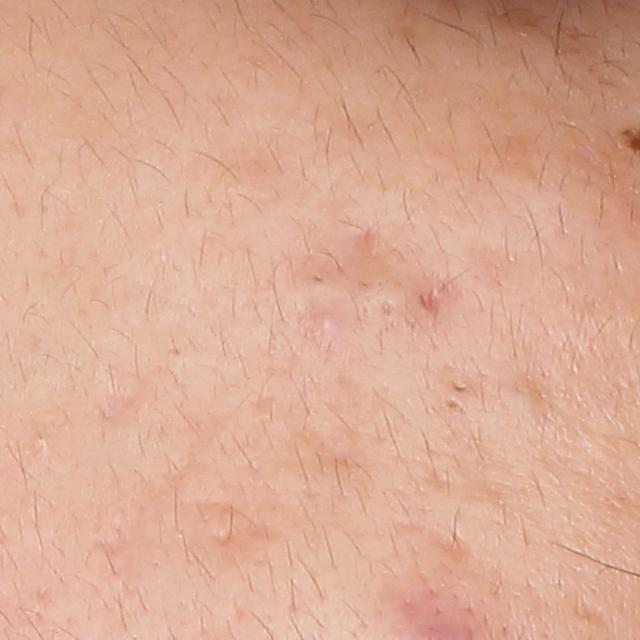atrophic_scar: (434, 524, 476, 566)
comedo: (378, 296, 397, 319)
